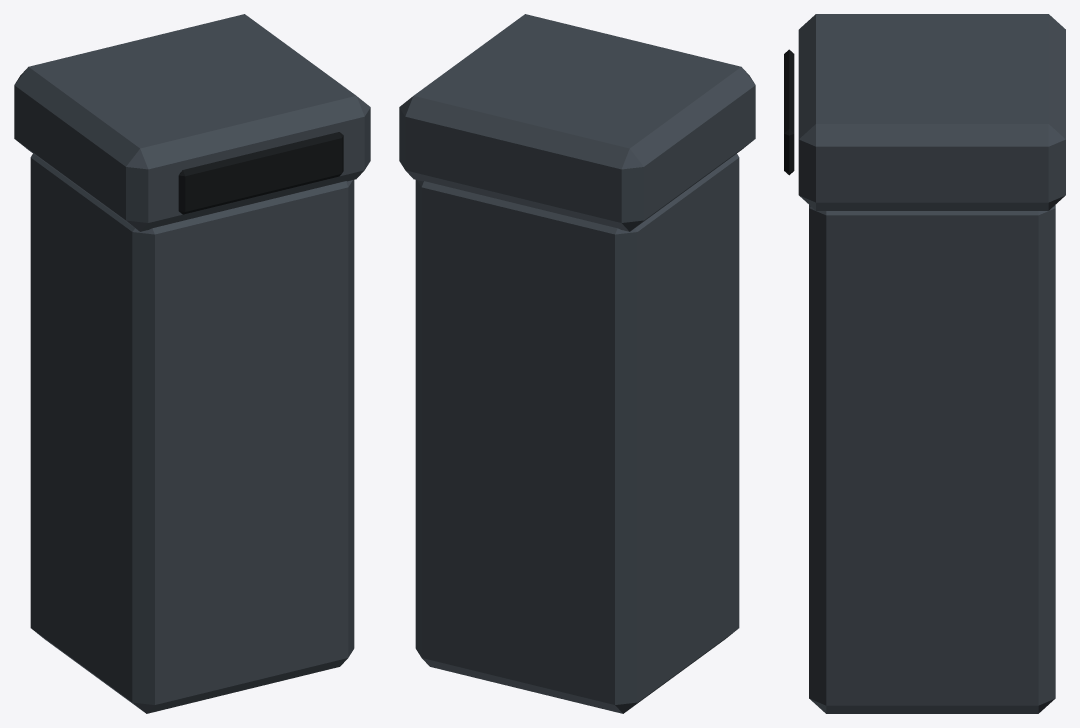
File: OutdoorTrashBin.fbx
3 renders of one model, left to right at view 1: azimuth 30°, elevation 25°; view 2: azimuth 150°, elevation 25°; view 3: azimuth 270°, elevation 25°, orthographic. The views are drawn at different scales.
Visible parts, largest first — view 1: OutdoorTrashBin; view 2: OutdoorTrashBin; view 3: OutdoorTrashBin.
Boxes of the visible parts, left/top/right/bottom form: OutdoorTrashBin: left=14, top=14, right=370, bottom=713; OutdoorTrashBin: left=399, top=14, right=755, bottom=713; OutdoorTrashBin: left=784, top=14, right=1065, bottom=713.
Bounding box in the file's own units: 43 × 96 × 41.15.
Materials: 1 (1 with a texture image).
